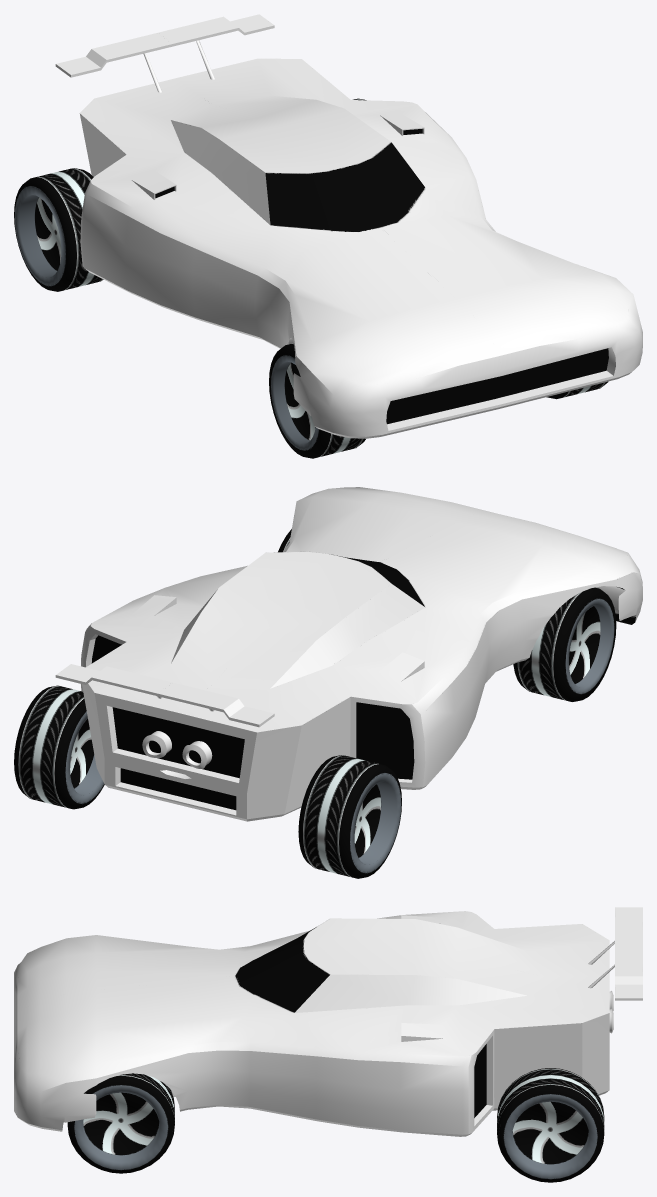
The model's file is smoothCar.fbx.
3 views of the same model, one above another, from view 1: azimuth 30°, elevation 25°; view 2: azimuth 150°, elevation 25°; view 3: azimuth 270°, elevation 25° (orthographic). The views are drawn at different scales.
Parts seen in each view (by area): view 1: RounderCar, Tire.005, Tire.007; view 2: RounderCar, Tire.005, Tire.004, Tire.007; view 3: RounderCar, Tire.004, Tire.006.
Part boxes in pixels (x1=…): RounderCar: x1=55, y1=14, x2=642, y2=438; Tire.005: x1=14, y1=168, x2=103, y2=291; Tire.007: x1=269, y1=343, x2=365, y2=458; RounderCar: x1=55, y1=487, x2=642, y2=821; Tire.005: x1=298, y1=755, x2=401, y2=878; Tire.004: x1=14, y1=685, x2=104, y2=809; Tire.007: x1=513, y1=587, x2=616, y2=701; RounderCar: x1=14, y1=907, x2=642, y2=1136; Tire.004: x1=497, y1=1068, x2=604, y2=1182; Tire.006: x1=67, y1=1073, x2=174, y2=1173.
Bounding box in the file's own units: 171 × 84.4 × 293.
Materials: 5 (5 with a texture image).
